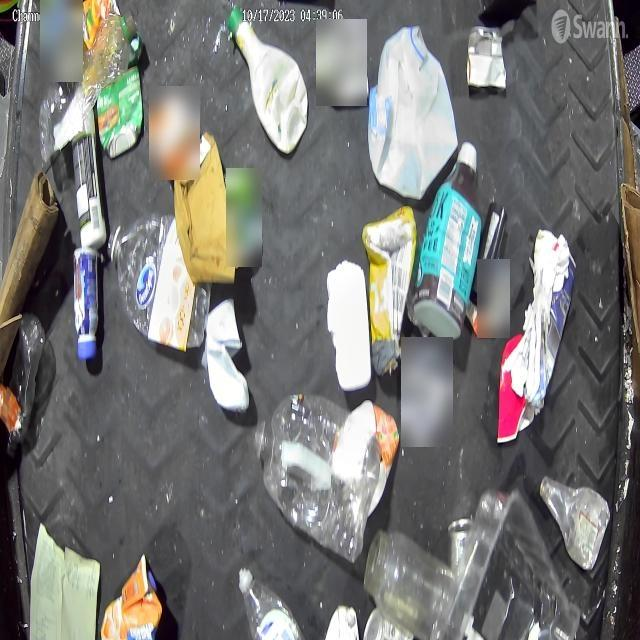milk_jug: (372, 29, 457, 200)
non_white_jug: (107, 214, 205, 350), (100, 552, 163, 640), (96, 68, 145, 162)
plastic_bottle: (5, 310, 45, 458), (239, 564, 316, 640)
